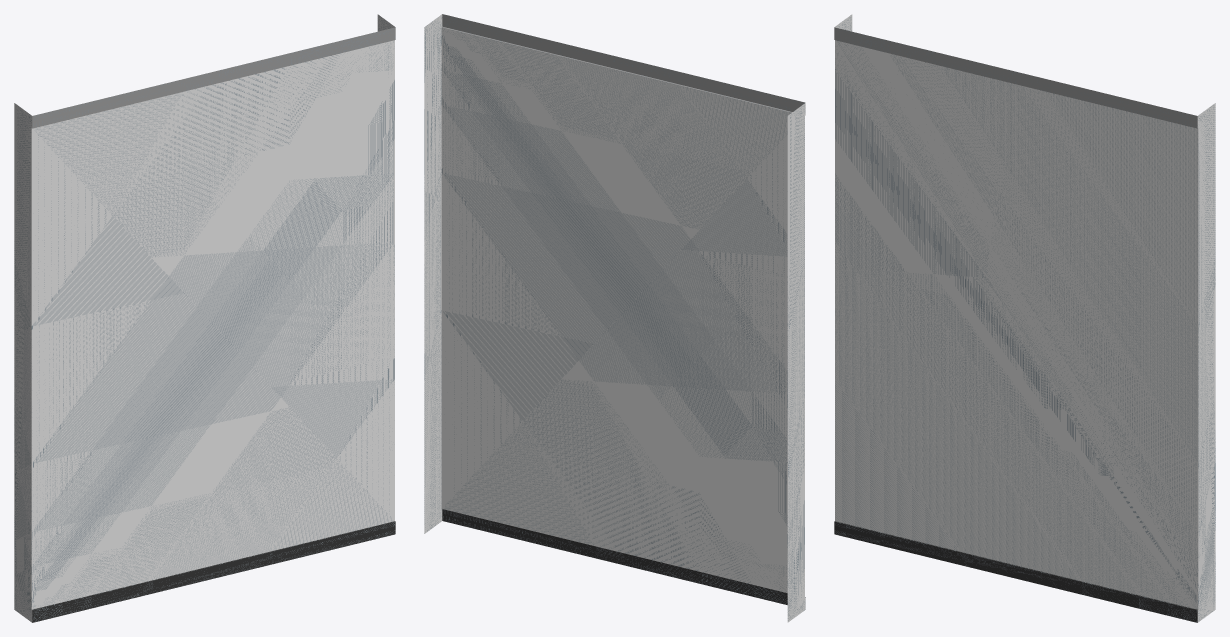
File: BlockWall_os_plinth_3x4x025.dae
The picture shows the model from 3 angles, left to right: view 1: azimuth 30°, elevation 25°; view 2: azimuth 150°, elevation 25°; view 3: azimuth 330°, elevation 25°; orthographic projection.
Visible parts, largest first — view 1: group_0 (×3); view 2: group_0 (×3); view 3: group_0 (×3).
Boxes of the visible parts, left/top/right/bottom form: group_0 (×3): left=14, top=14, right=395, bottom=622; group_0 (×3): left=424, top=14, right=805, bottom=622; group_0 (×3): left=834, top=14, right=1215, bottom=622.
Size of the model in its own units: 118 by 10.24 by 157.
